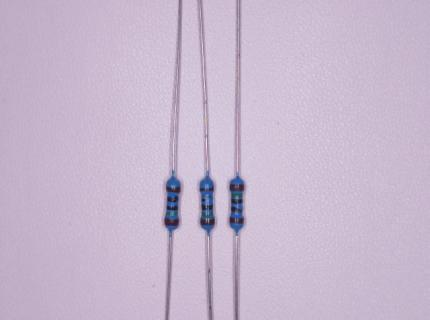Black band: (201, 204, 213, 210), (231, 207, 242, 213), (231, 199, 243, 204), (201, 197, 213, 202), (166, 197, 178, 202), (166, 206, 178, 210)
Brown band: (165, 218, 179, 226), (200, 219, 215, 226), (230, 217, 244, 224), (166, 186, 180, 193), (229, 185, 244, 191), (199, 187, 214, 192)
Green band: (202, 212, 214, 216), (166, 212, 178, 215), (231, 194, 243, 197)
